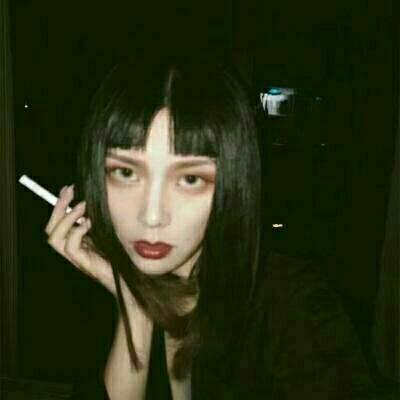smoke: (16, 172, 86, 226)
